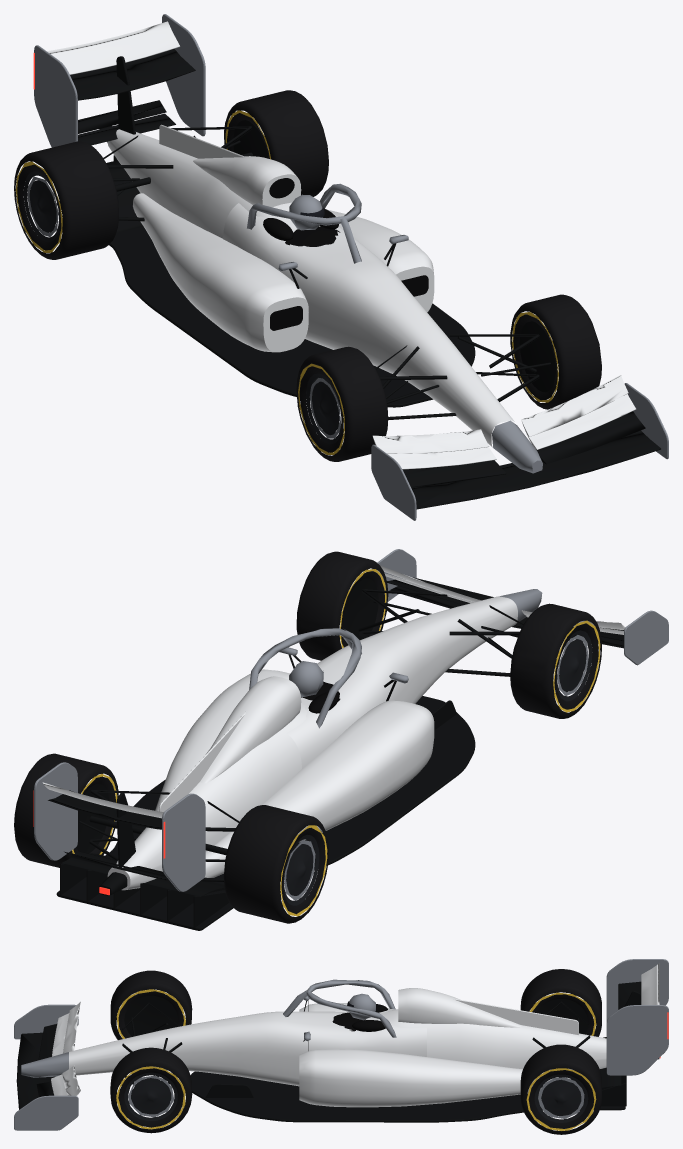
File: formula-car.glb
The picture shows the model from 3 angles, top to bottom: view 1: azimuth 30°, elevation 25°; view 2: azimuth 150°, elevation 25°; view 3: azimuth 270°, elevation 25°; orthographic projection. The views are drawn at different scales.
Visible parts, largest first — view 1: Car_paint, Car_carbon, Car_rubber, Car_paint2, Car_rim, Car_dark, Car_stripe; view 2: Car_paint, Car_carbon, Car_rubber, Car_paint2, Car_rim, Car_stripe; view 3: Car_paint, Car_carbon, Car_rubber, Car_paint2, Car_rim, Car_stripe, Car_dark.
Boxes of the visible parts, bbox=[...] form: Car_paint: bbox=[47, 21, 636, 469]; Car_carbon: bbox=[56, 49, 660, 509]; Car_rubber: bbox=[14, 90, 601, 461]; Car_paint2: bbox=[27, 14, 668, 520]; Car_rim: bbox=[23, 171, 342, 444]; Car_dark: bbox=[263, 178, 428, 330]; Car_stripe: bbox=[15, 110, 558, 454]; Car_paint: bbox=[42, 565, 625, 890]; Car_carbon: bbox=[48, 577, 623, 930]; Car_rubber: bbox=[14, 551, 601, 923]; Car_paint2: bbox=[34, 549, 668, 900]; Car_rim: bbox=[283, 630, 592, 905]; Car_stripe: bbox=[72, 569, 600, 916]; Car_paint: bbox=[51, 963, 659, 1107]; Car_carbon: bbox=[16, 981, 659, 1122]; Car_rubber: bbox=[110, 969, 601, 1134]; Car_paint2: bbox=[14, 959, 668, 1130]; Car_rim: bbox=[124, 1072, 588, 1122]; Car_stripe: bbox=[116, 989, 596, 1130]; Car_dark: bbox=[332, 1004, 387, 1031].
Bounding box in the file's own units: 1.99 × 1.03 × 5.75.
